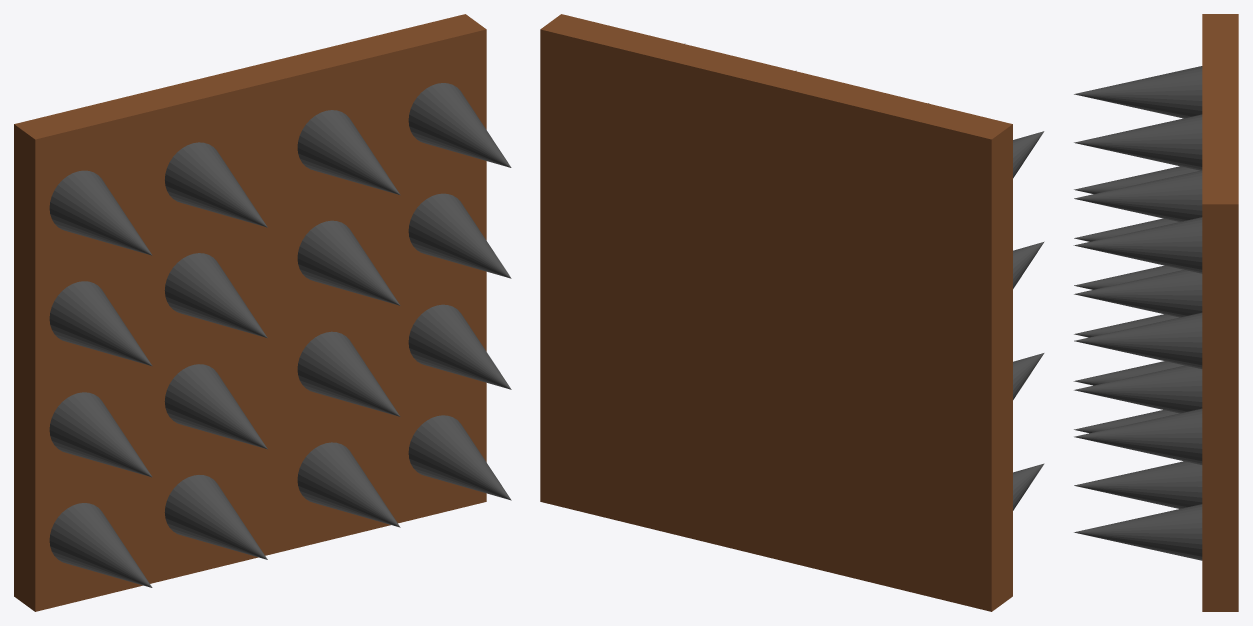
File: SpikeTrapFixed.fbx
3 views of the same model, side by side, from view 1: azimuth 30°, elevation 25°; view 2: azimuth 150°, elevation 25°; view 3: azimuth 270°, elevation 25° (orthographic). The views are drawn at different scales.
Parts seen in each view (by area): view 1: SpikesModel; view 2: SpikesModel; view 3: SpikesModel.
Part boxes in pixels (<box>): SpikesModel: <box>14,14,511,611</box>; SpikesModel: <box>540,14,1044,611</box>; SpikesModel: <box>1073,14,1238,611</box>.
Bounding box in the file's own units: 2 × 2 × 0.7349.
